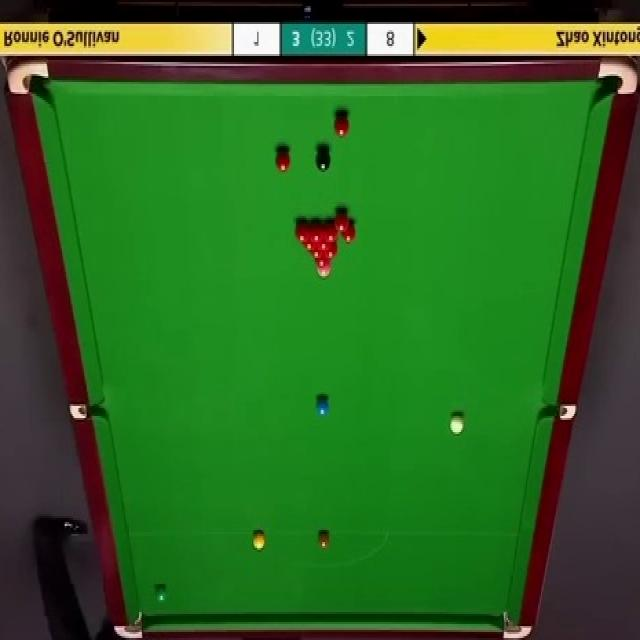black-ball: (316, 146, 332, 172)
blue-ball: (316, 397, 329, 416)
brown-ball: (317, 530, 330, 549)
green-ball: (155, 584, 167, 602)
pink-ball: (316, 267, 333, 280)
red-ball: (274, 148, 291, 174), (335, 112, 350, 138), (324, 220, 339, 243), (294, 222, 309, 244), (342, 220, 356, 243), (334, 210, 348, 232), (309, 222, 323, 244), (325, 244, 338, 260), (312, 260, 330, 270), (308, 250, 324, 260), (316, 243, 332, 251), (302, 242, 316, 251)
white-ball: (449, 409, 465, 436)
yellow-ball: (252, 532, 265, 551)
